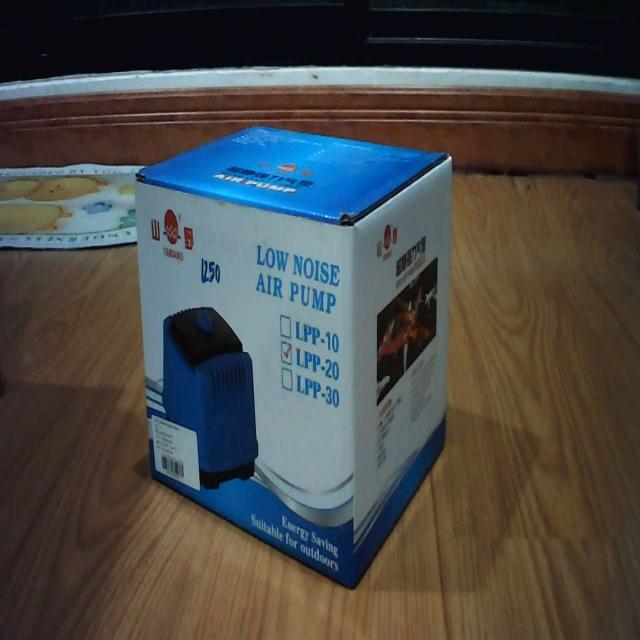YAMANO_LPP_20: (131, 103, 455, 603)
